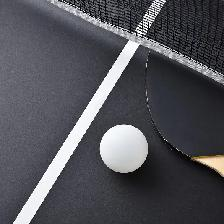WhiteBall: (99, 123, 148, 173)
